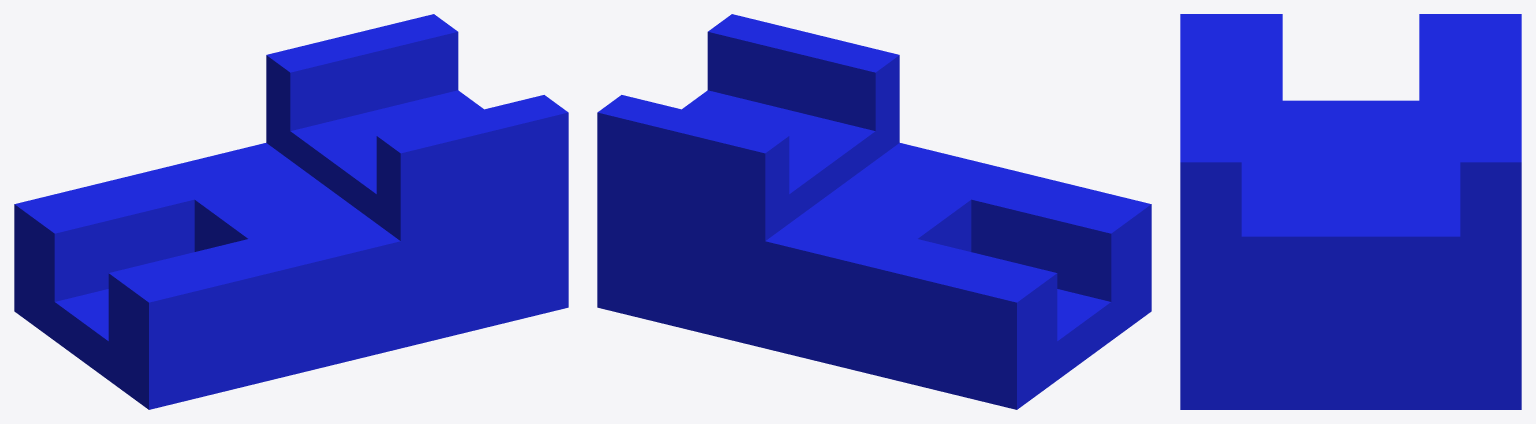
Rendered from asset.glb.
3 renders of one model, left to right at view 1: azimuth 30°, elevation 25°; view 2: azimuth 150°, elevation 25°; view 3: azimuth 270°, elevation 25°, orthographic. The views are drawn at different scales.
Parts seen in each view (by area): view 1: Solid1; view 2: Solid1; view 3: Solid1.
Boxes of the visible parts, x1,y1,x2,y2 form: Solid1: (14,14,568,409); Solid1: (597,14,1151,409); Solid1: (1180,14,1521,409).
Bounding box in the file's own units: 0.09 × 0.04 × 0.05.
